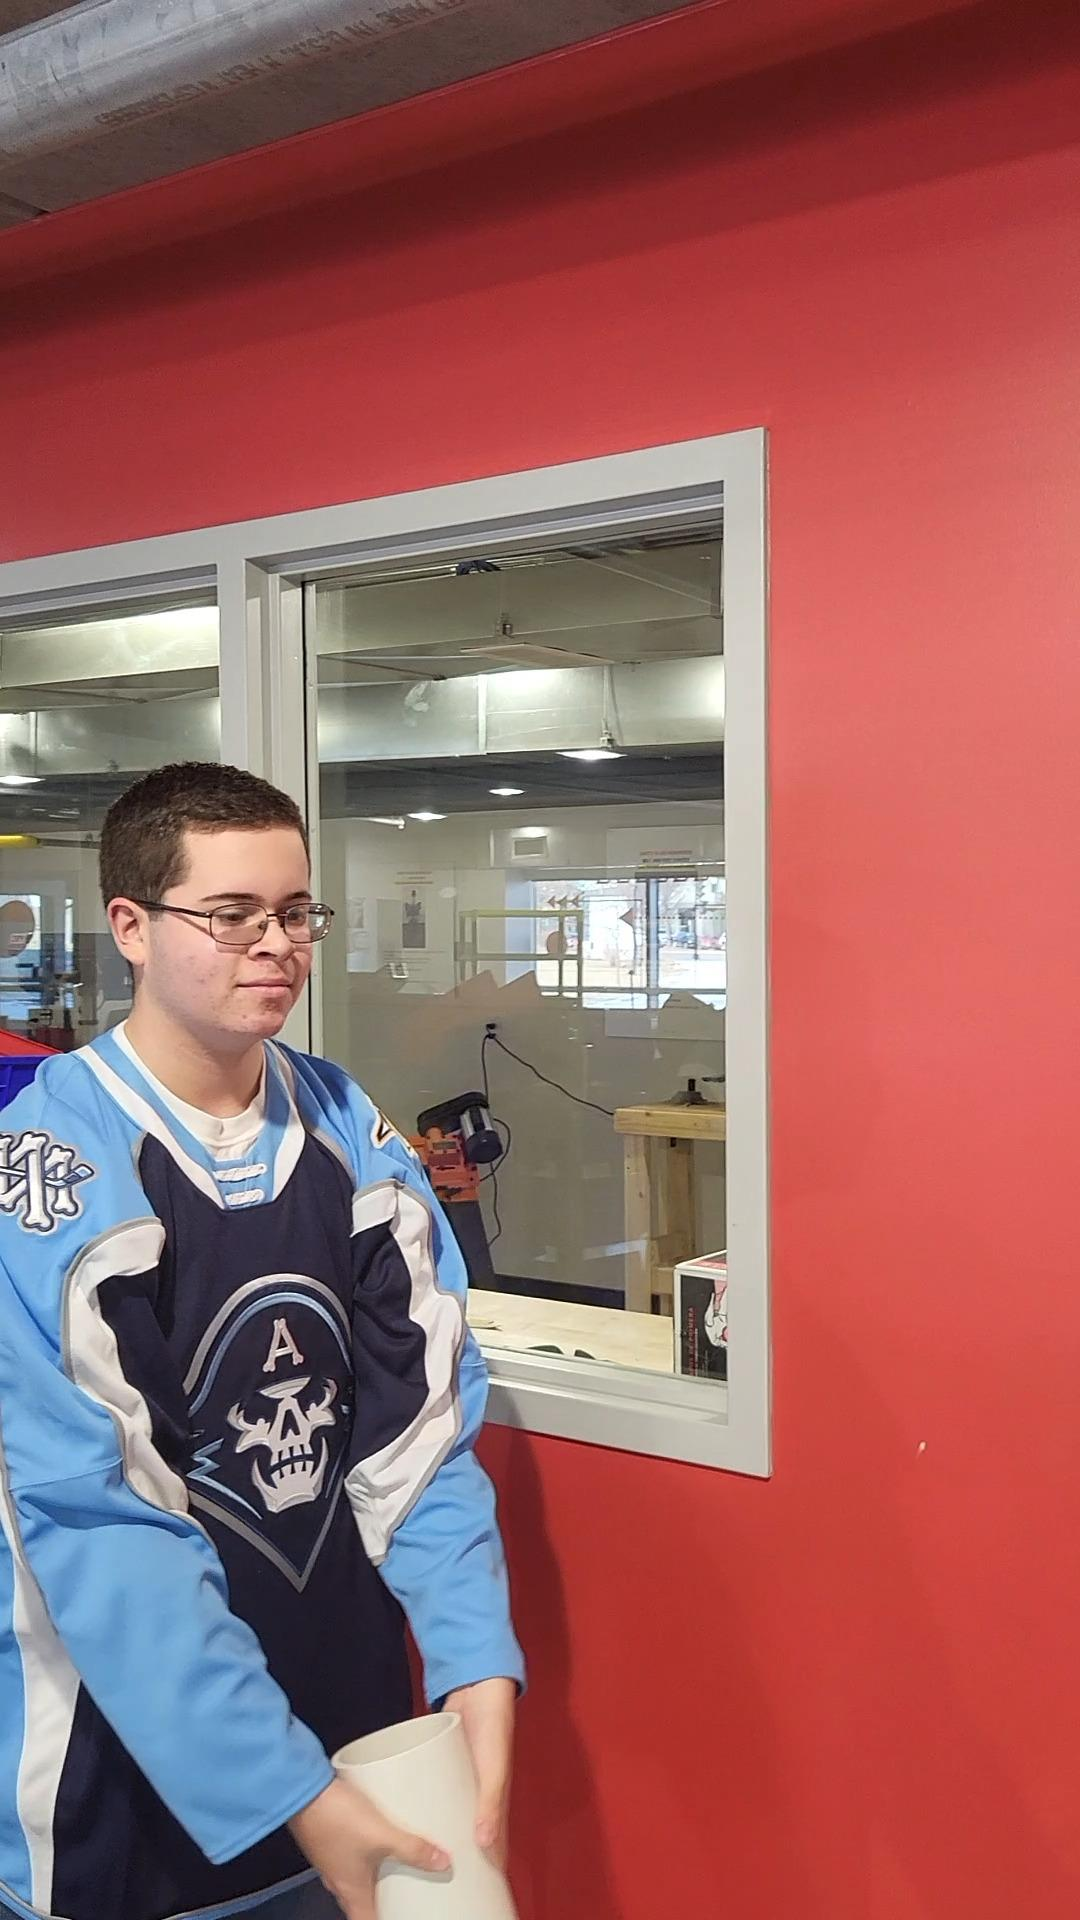coral: (323, 1704, 533, 1920)
